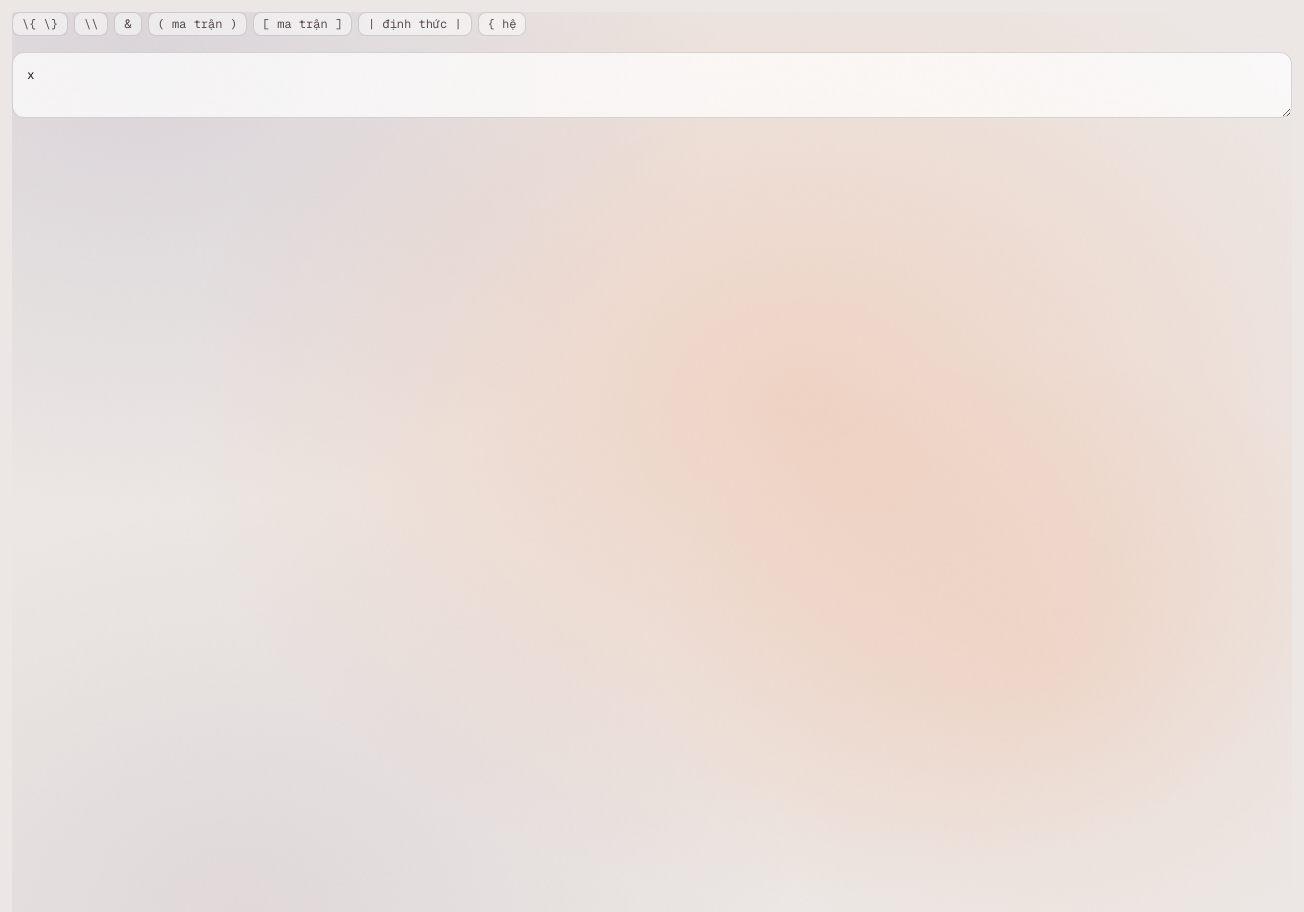
Test: marks the box as edited, so the model's reading can be restored
The width and height of the screenshot is (1304, 912).
Click the button with aria-label "Hệ phương trình".
click(502, 24)  # box 478,12 -> 526,36
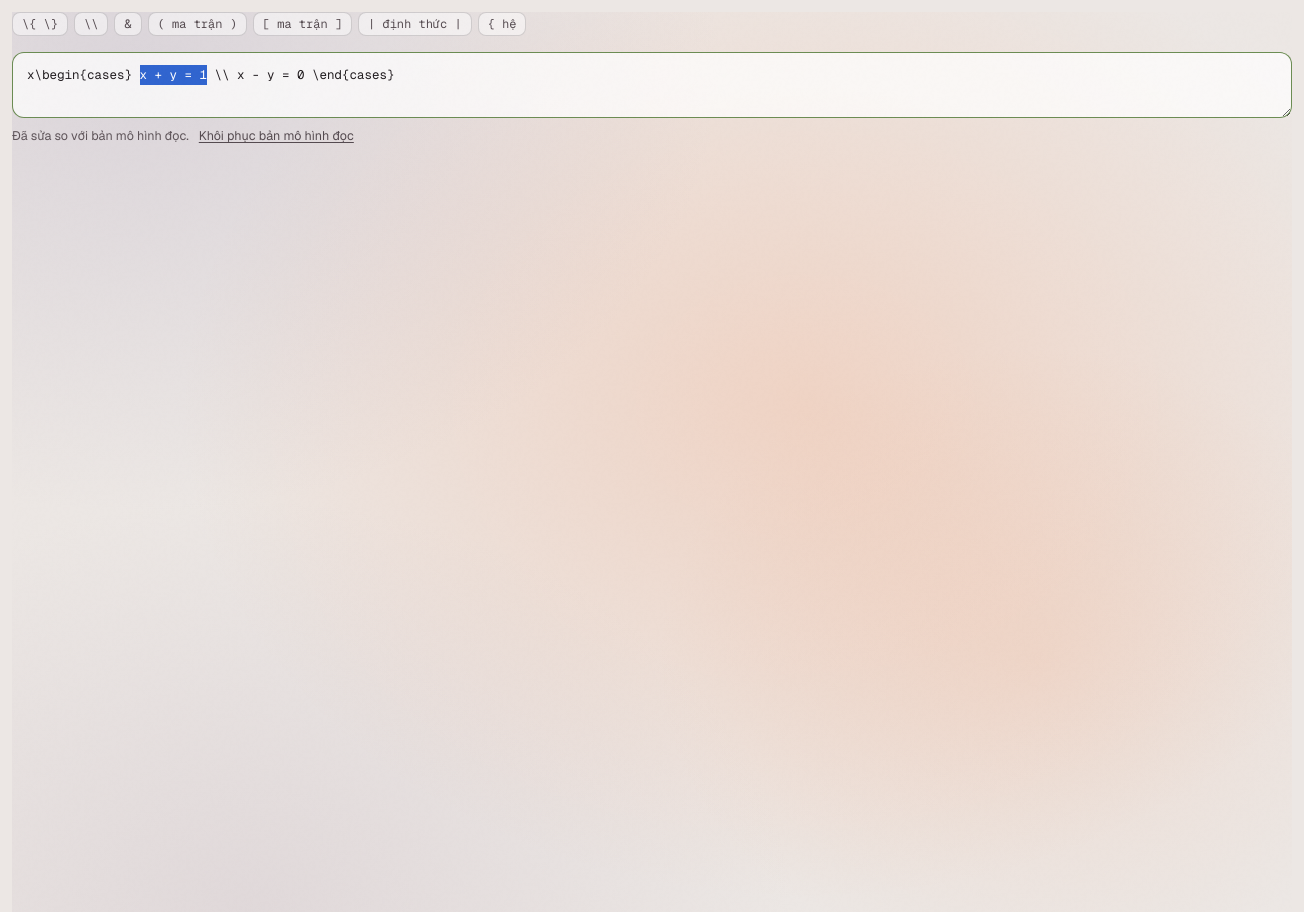
Expected: the text "Đã sửa so với bản mô hình đọc." is shown, 12,126 -> 189,146
